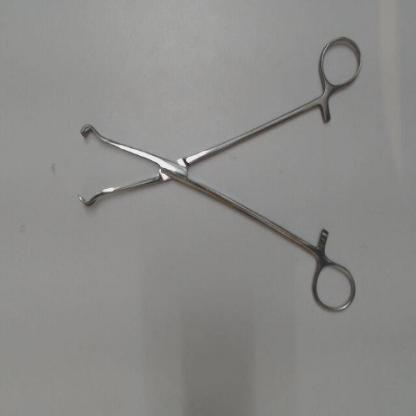8 Babcock Tissue Forceps: (74, 31, 367, 328)
